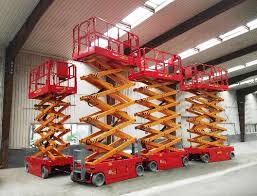Scissor Lift: (71, 15, 147, 188), (129, 46, 190, 173), (24, 58, 78, 180), (183, 62, 236, 164)
